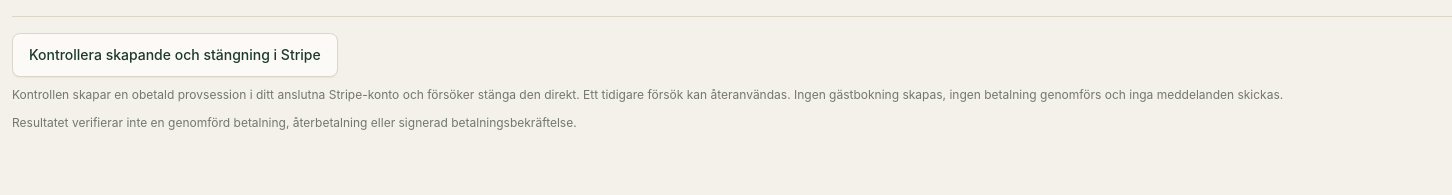
it: explicit owner Stripe create-and-close check › renders fixed text for create_not_confirmed and discards unexpected provider/customer fields
Click the button "Kontrollera skapande och stängning i Stripe" at point(175, 55), box [12,33,338,77]
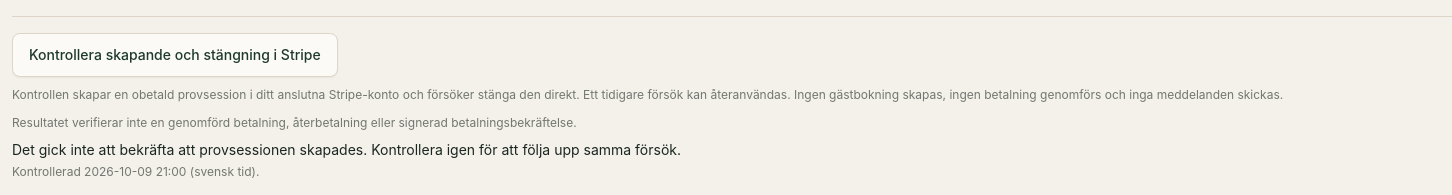
Now the message shows "Det gick inte att bekräfta att provsessionen skapades. Kontrollera igen för att följa upp samma försök.", box [12,141,681,158]
